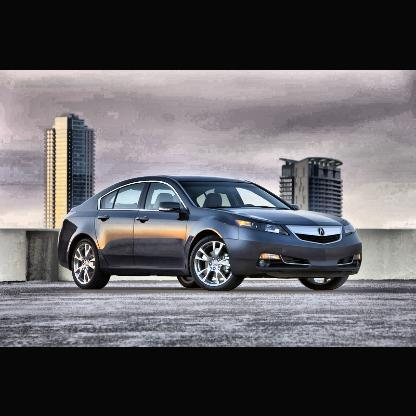Acura TL Sedan 2012: (57, 174, 367, 292)
